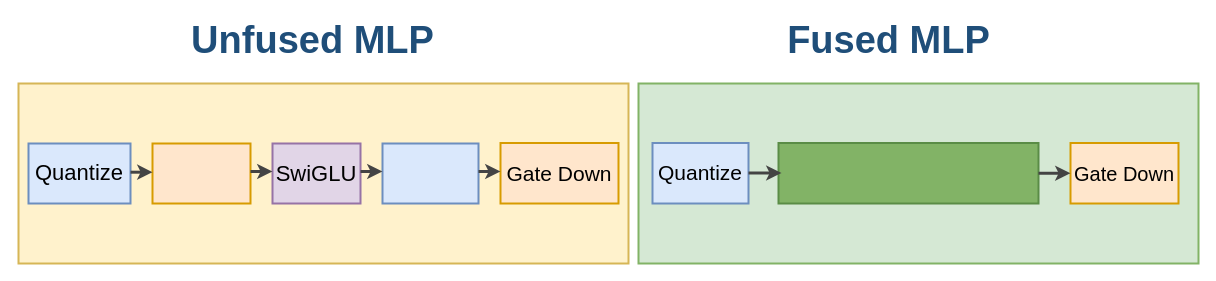
Image size: 1216x281. Some labels were removed from this diagram. The shapes that lost their labels are listed below. From the top down, each one's centre as x and y in pixels, then its label:
At point (201, 173): "Gate Up".
At point (430, 173): "De-quantize".
At point (908, 173): "Fused Group MLP".
